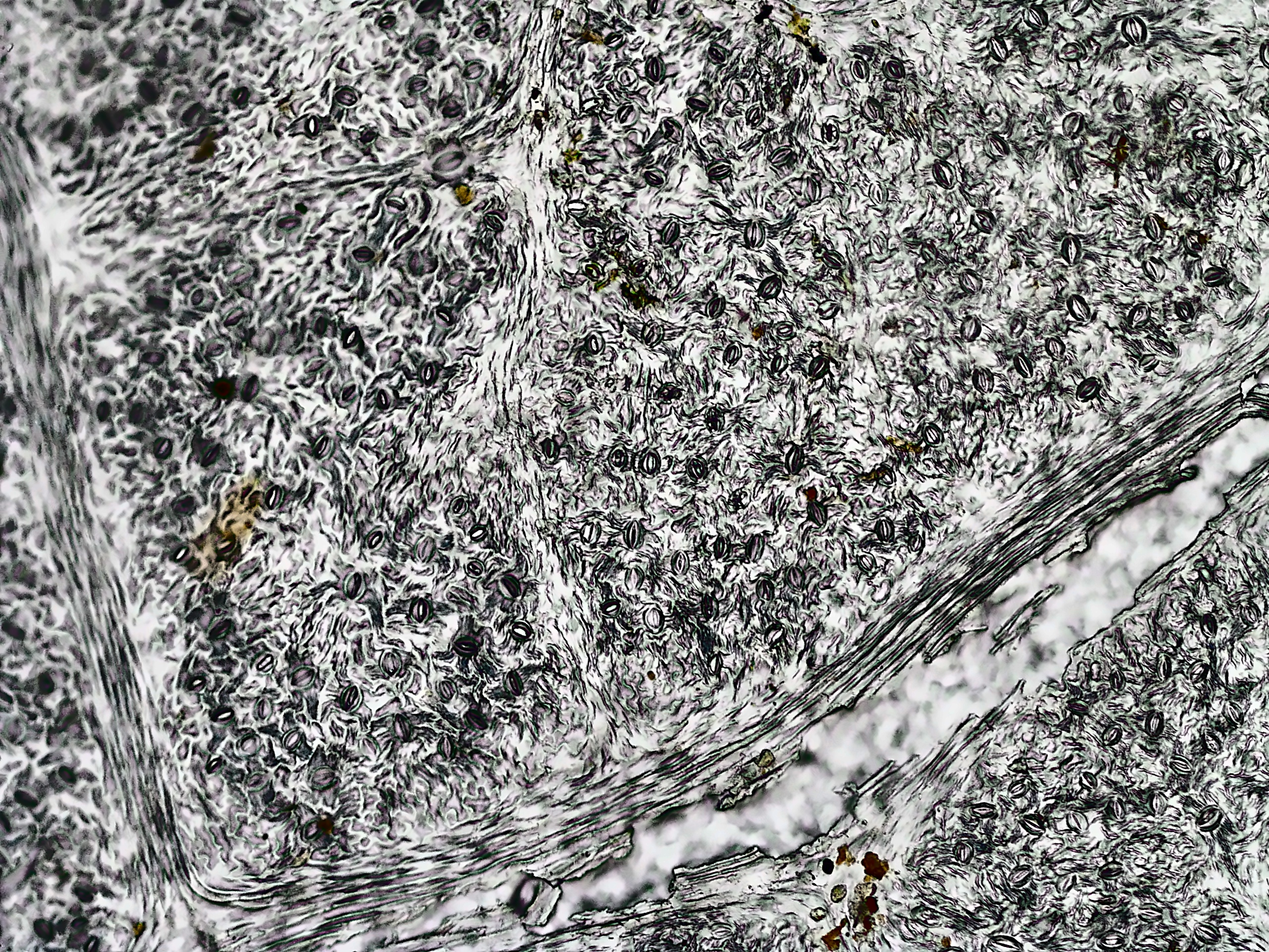stomata: (431, 148, 465, 174), (1121, 15, 1147, 44), (1143, 212, 1165, 244), (970, 367, 996, 394), (409, 594, 431, 625), (1061, 235, 1083, 266), (638, 447, 660, 477), (1181, 229, 1206, 255), (932, 160, 955, 188), (985, 131, 1008, 159), (642, 54, 664, 83), (642, 319, 664, 348), (744, 219, 766, 248), (1025, 6, 1050, 31), (178, 101, 203, 126), (641, 606, 664, 633), (468, 19, 496, 41), (1077, 376, 1099, 404), (624, 520, 645, 549), (235, 733, 259, 758), (927, 105, 952, 129), (1162, 92, 1187, 116), (862, 96, 885, 122), (783, 564, 806, 590), (1136, 902, 1162, 925), (958, 271, 986, 292), (223, 6, 252, 26), (1067, 296, 1093, 318), (301, 819, 328, 840), (868, 179, 889, 206), (801, 175, 821, 203), (705, 405, 725, 433), (785, 445, 803, 476), (870, 231, 888, 262), (853, 550, 877, 573), (757, 276, 782, 298), (1128, 303, 1149, 329), (392, 713, 411, 741), (1058, 42, 1086, 61), (934, 372, 953, 400), (1096, 930, 1124, 949), (379, 651, 402, 674), (726, 79, 749, 102), (497, 575, 519, 599), (806, 501, 828, 525), (608, 446, 629, 471), (1223, 701, 1244, 726), (848, 54, 868, 80), (1062, 112, 1082, 138), (722, 341, 741, 368), (788, 66, 807, 93), (1017, 814, 1044, 833), (1145, 711, 1164, 738), (656, 381, 683, 400), (363, 526, 386, 548), (290, 666, 313, 688), (338, 686, 360, 709), (169, 541, 192, 563), (153, 436, 175, 459), (583, 331, 606, 353), (872, 518, 894, 541), (958, 318, 980, 341), (578, 521, 602, 542), (435, 737, 456, 761), (771, 320, 795, 341), (971, 210, 995, 231), (241, 373, 259, 401), (1196, 923, 1221, 943), (625, 564, 644, 590), (988, 34, 1007, 60), (274, 211, 301, 229), (281, 728, 302, 751), (921, 422, 942, 445), (631, 255, 651, 279), (308, 770, 336, 787), (1006, 867, 1034, 884), (1214, 149, 1232, 175), (510, 619, 531, 641), (301, 115, 322, 137), (617, 102, 638, 124), (1196, 807, 1218, 828), (202, 442, 222, 465), (439, 96, 462, 116), (744, 103, 764, 126), (1068, 810, 1088, 833), (1241, 602, 1261, 625), (210, 242, 237, 259), (816, 298, 840, 317), (756, 577, 775, 601), (1014, 353, 1033, 377), (970, 801, 994, 820), (1168, 756, 1192, 775), (345, 573, 363, 598), (452, 636, 477, 654), (706, 293, 724, 318), (820, 250, 845, 268), (671, 549, 688, 575), (405, 72, 426, 93), (1054, 873, 1075, 894), (1005, 315, 1026, 336), (1112, 89, 1133, 110), (1181, 188, 1202, 209), (374, 386, 394, 408), (465, 710, 487, 730), (336, 85, 358, 105), (873, 463, 893, 485), (885, 58, 904, 81), (1045, 336, 1064, 359), (255, 696, 273, 720), (745, 535, 763, 559), (1177, 148, 1195, 172), (138, 77, 156, 101), (685, 92, 710, 109), (662, 219, 679, 244), (1155, 655, 1172, 680), (580, 260, 601, 280), (809, 355, 829, 376), (955, 842, 975, 863), (1105, 798, 1126, 818), (267, 486, 286, 508), (465, 557, 484, 579), (437, 678, 456, 700), (707, 159, 729, 178), (1188, 661, 1210, 680), (128, 401, 147, 423), (313, 435, 331, 458), (505, 670, 523, 693), (703, 43, 726, 61), (768, 147, 791, 165), (1205, 265, 1228, 283), (1201, 613, 1218, 637), (552, 389, 576, 406), (350, 246, 375, 262), (1108, 668, 1124, 693), (1201, 732, 1221, 752), (417, 537, 436, 558), (1138, 354, 1160, 372), (1141, 259, 1164, 276), (822, 118, 838, 142), (686, 457, 705, 477), (210, 620, 230, 639), (769, 353, 789, 372), (540, 438, 558, 459), (482, 211, 500, 232), (419, 360, 436, 382), (1145, 159, 1162, 181), (1102, 726, 1121, 745), (450, 496, 468, 516), (207, 706, 231, 721), (247, 772, 267, 790), (461, 60, 485, 75), (341, 382, 358, 403), (227, 87, 248, 104), (1067, 698, 1088, 715), (467, 524, 489, 540), (642, 169, 664, 185), (711, 536, 727, 558), (1151, 791, 1167, 813), (186, 287, 202, 309), (1097, 862, 1122, 876), (701, 595, 716, 617), (206, 340, 224, 358), (764, 626, 783, 643), (141, 352, 164, 366), (254, 654, 275, 669), (343, 327, 358, 348), (55, 765, 76, 780), (908, 533, 923, 554), (1009, 779, 1027, 796), (1079, 772, 1096, 790), (377, 12, 396, 28), (618, 68, 634, 87), (185, 676, 205, 691), (432, 308, 452, 323), (385, 196, 406, 210), (707, 654, 721, 675), (1170, 95, 1187, 112), (604, 34, 626, 47), (567, 201, 586, 216), (1178, 301, 1191, 321), (207, 756, 220, 773), (602, 599, 617, 613)
